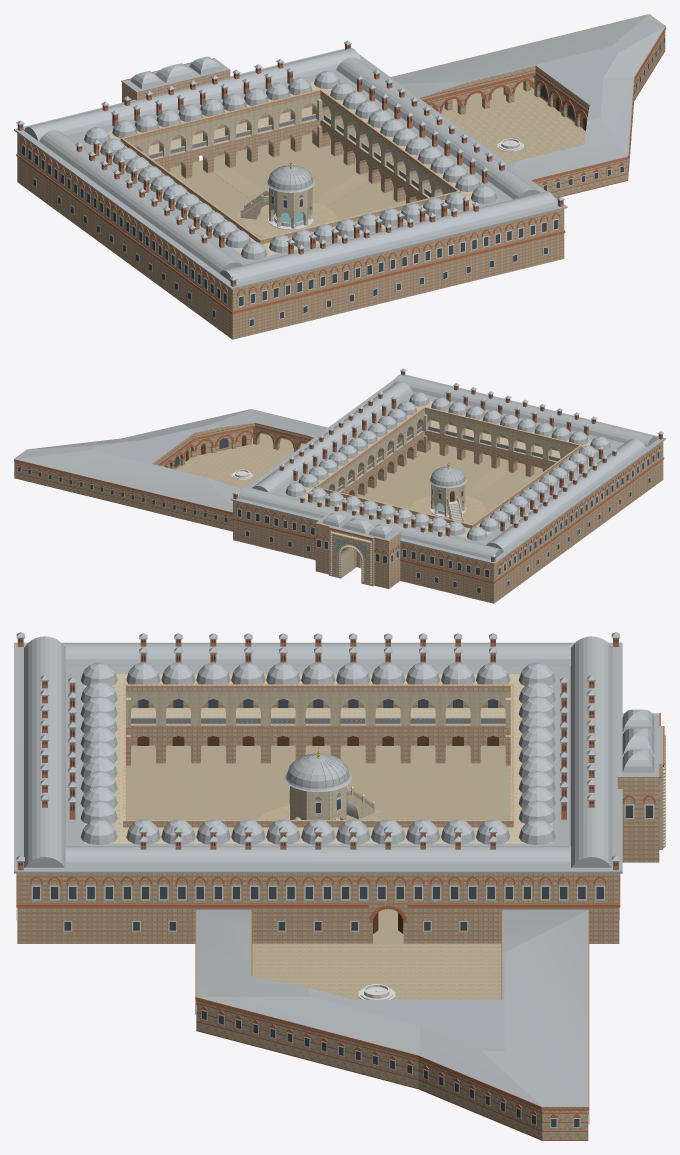
File: koza-han_v14.glb
The picture shows the model from 3 angles, top to bottom: view 1: azimuth 30°, elevation 25°; view 2: azimuth 150°, elevation 25°; view 3: azimuth 270°, elevation 25°; orthographic projection. The views are drawn at different scales.
Visible parts, largest first — view 1: Cati, Govde_Dis, Ic_Koza, Avlu_Zemin, Kubbe_Avlu, Avlu_Revak, Baca, Cephe, Portal, Avlu_Mescit, Silme_Kat, Avlu_Halka (+1 smaller); view 2: Ic_Koza, Cati, Govde_Dis, Avlu_Zemin, Kubbe_Avlu, Avlu_Revak, Portal, Baca, Cephe, Avlu_Mescit, Silme_Kat, Avlu_Halka (+1 smaller); view 3: Cati, Ic_Koza, Govde_Dis, Avlu_Zemin, Kubbe_Avlu, Avlu_Revak, Baca, Cephe, Portal, Avlu_Mescit, Silme_Kat, Avlu_Cephe (+1 smaller).
Part boxes in pixels (bbox=[...]): Cati: bbox=[14, 48, 567, 289]; Govde_Dis: bbox=[17, 70, 564, 339]; Ic_Koza: bbox=[391, 14, 665, 198]; Avlu_Zemin: bbox=[170, 77, 585, 238]; Kubbe_Avlu: bbox=[84, 70, 497, 259]; Avlu_Revak: bbox=[83, 81, 498, 260]; Baca: bbox=[16, 40, 564, 286]; Cephe: bbox=[21, 96, 559, 326]; Portal: bbox=[121, 56, 230, 102]; Avlu_Mescit: bbox=[240, 138, 523, 229]; Silme_Kat: bbox=[16, 154, 565, 313]; Avlu_Halka: bbox=[243, 202, 337, 237]; Ic_Koza: bbox=[14, 409, 327, 531]; Cati: bbox=[230, 374, 665, 564]; Govde_Dis: bbox=[233, 391, 663, 603]; Avlu_Zemin: bbox=[175, 433, 542, 524]; Kubbe_Avlu: bbox=[285, 392, 610, 540]; Avlu_Revak: bbox=[285, 400, 611, 541]; Portal: bbox=[315, 513, 400, 588]; Baca: bbox=[232, 368, 663, 562]; Cephe: bbox=[236, 445, 660, 593]; Avlu_Mescit: bbox=[231, 469, 466, 522]; Silme_Kat: bbox=[232, 457, 664, 583]; Avlu_Halka: bbox=[411, 495, 485, 523]; Cati: bbox=[14, 636, 622, 873]; Ic_Koza: bbox=[195, 909, 589, 1140]; Govde_Dis: bbox=[17, 666, 619, 943]; Avlu_Zemin: bbox=[126, 745, 510, 999]; Kubbe_Avlu: bbox=[80, 662, 555, 844]; Avlu_Revak: bbox=[84, 674, 552, 843]; Baca: bbox=[16, 632, 619, 870]; Cephe: bbox=[16, 785, 660, 931]; Portal: bbox=[617, 709, 665, 862]; Avlu_Mescit: bbox=[289, 785, 395, 999]; Silme_Kat: bbox=[16, 881, 620, 907]; Avlu_Cephe: bbox=[137, 699, 498, 745].
Bounding box in the file's own units: 120 × 13.15 × 77.99.
31 materials, 16 textured.
